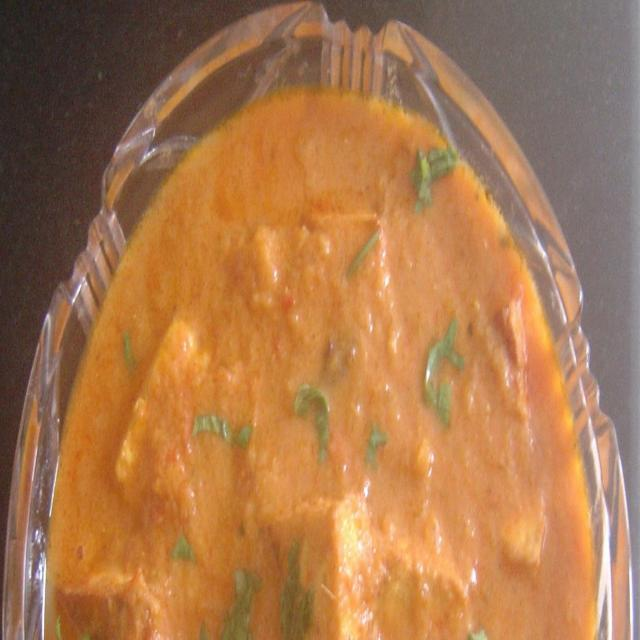ShahiPaneer: (59, 88, 596, 640)
